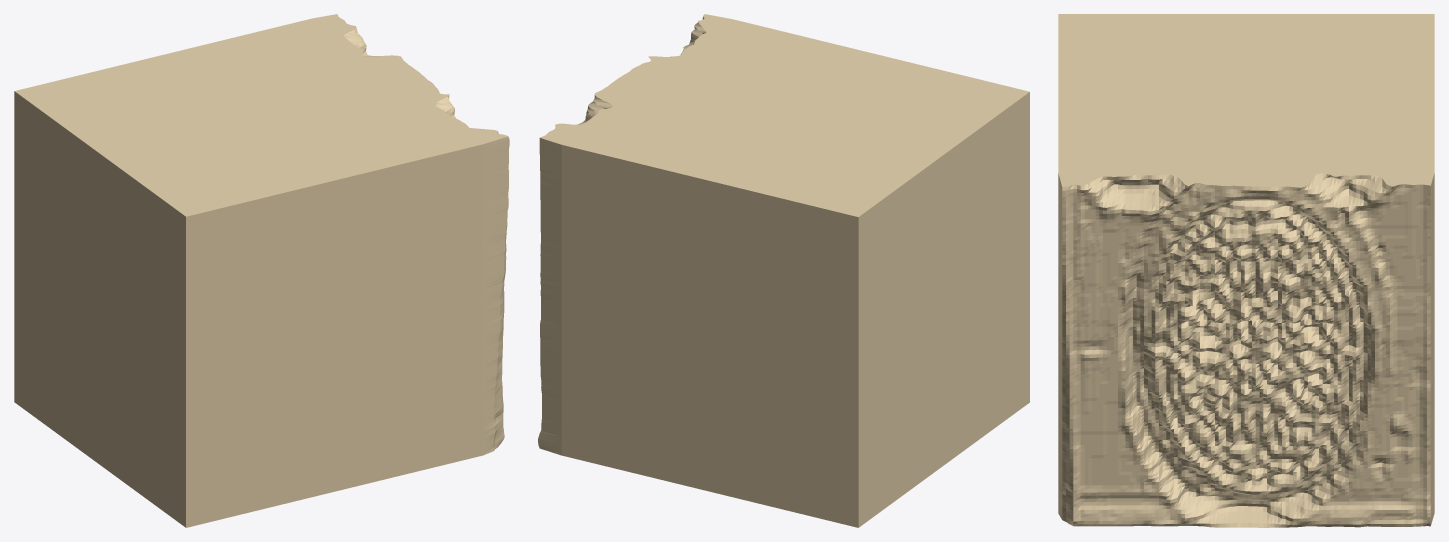
Rendered from bottom5.png - copia.obj.
3 renders of one model, left to right at view 1: azimuth 30°, elevation 25°; view 2: azimuth 150°, elevation 25°; view 3: azimuth 270°, elevation 25°, orthographic. The views are drawn at different scales.
Parts seen in each view (by area): view 1: Cube; view 2: Cube; view 3: Cube.
Boxes of the visible parts, <box> form: Cube: <box>14,14,509,527</box>; Cube: <box>538,14,1029,527</box>; Cube: <box>1058,14,1434,527</box>.
Size of the model in its own units: 1.1 by 1 by 1.
